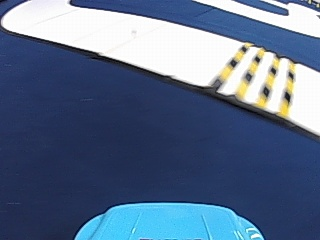bump: (210, 44, 297, 111)
